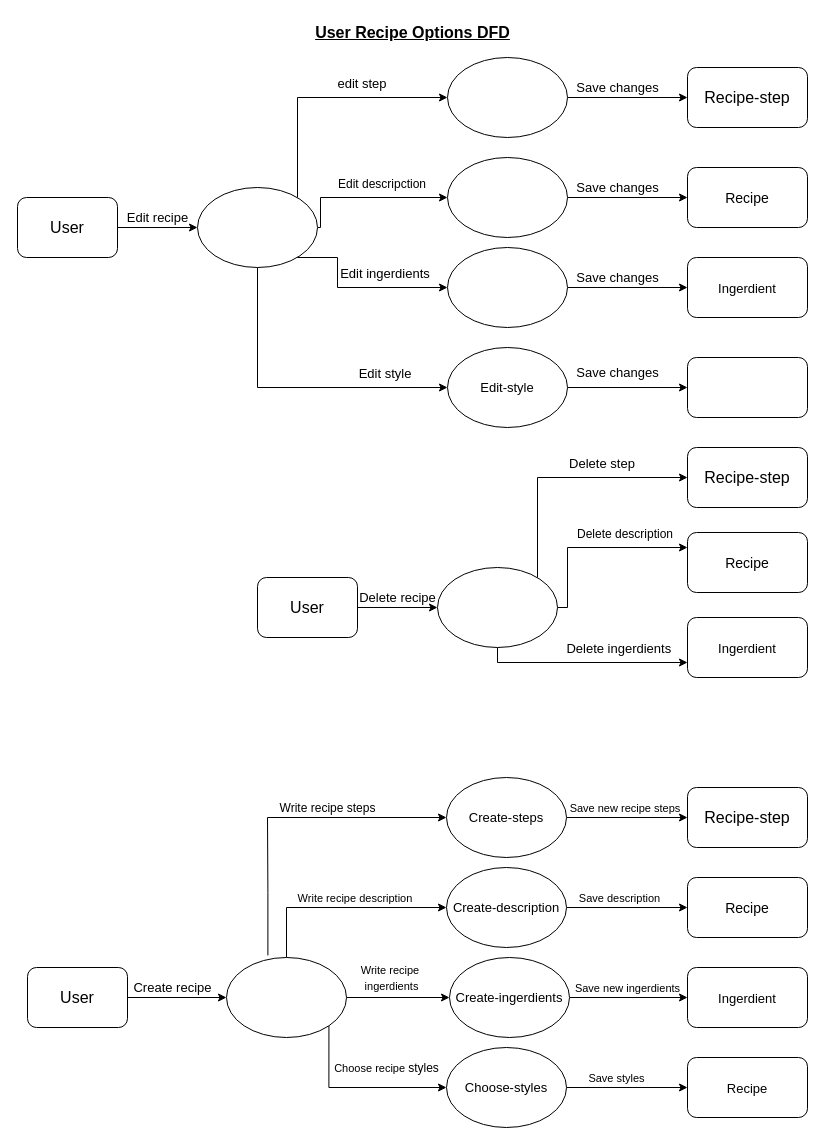
Image size: 825x1145. Some labels were removed from this diagram. Each missing label, with the centre of its shape:
"Create-recipe" goes at [286,997].
"Delete" goes at [497,607].
"Edit" goes at [257,227].
"Edit-description" goes at [507,197].
"Edit-ingerdients" goes at [507,287].
"Edit-step" goes at [507,97].
"Recipe-style" goes at [747,387].
